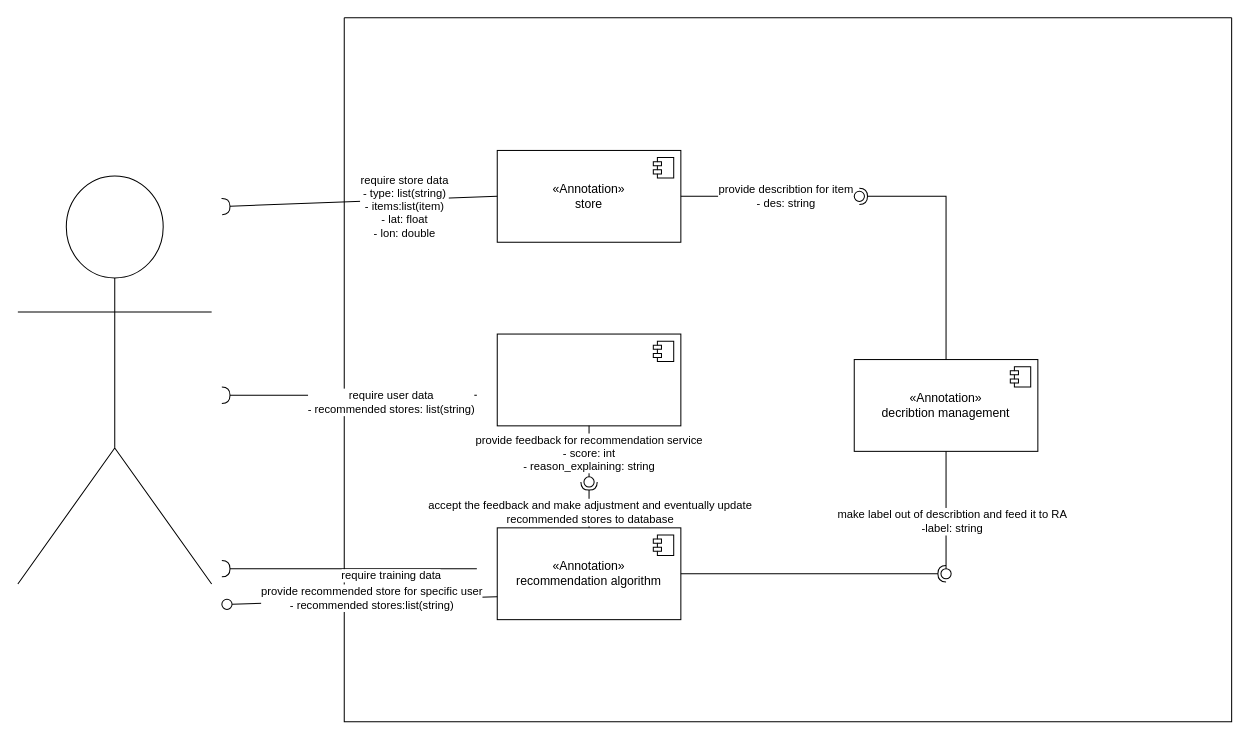
This 1250x740 diagram has some shape labels left out. Here are the shapes that lost their labels. From the top down, the box of each, then its label:
(17, 175, 212, 584): database
(496, 333, 681, 426): «Annotation» user
